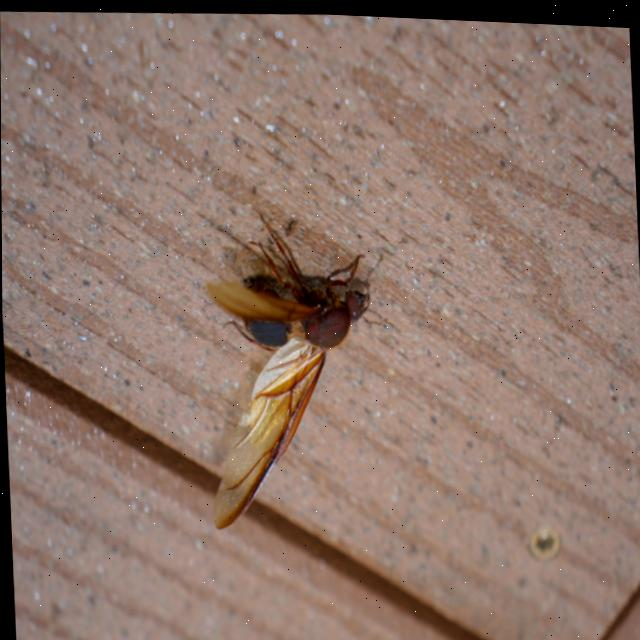Alive-Female-Alate: (198, 196, 397, 535)
